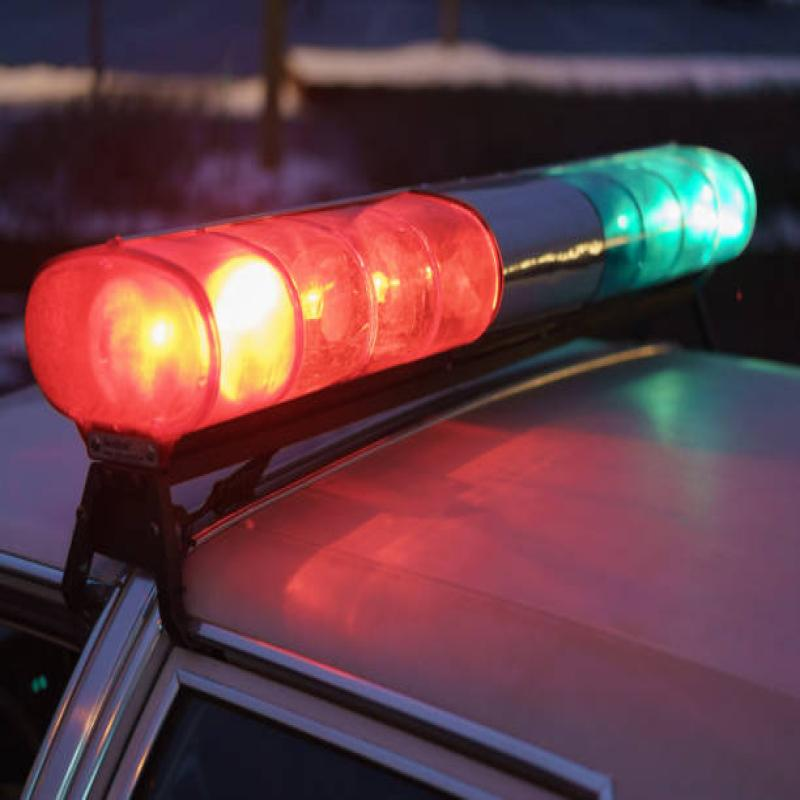AmbulanceSiren: (31, 153, 800, 400)
